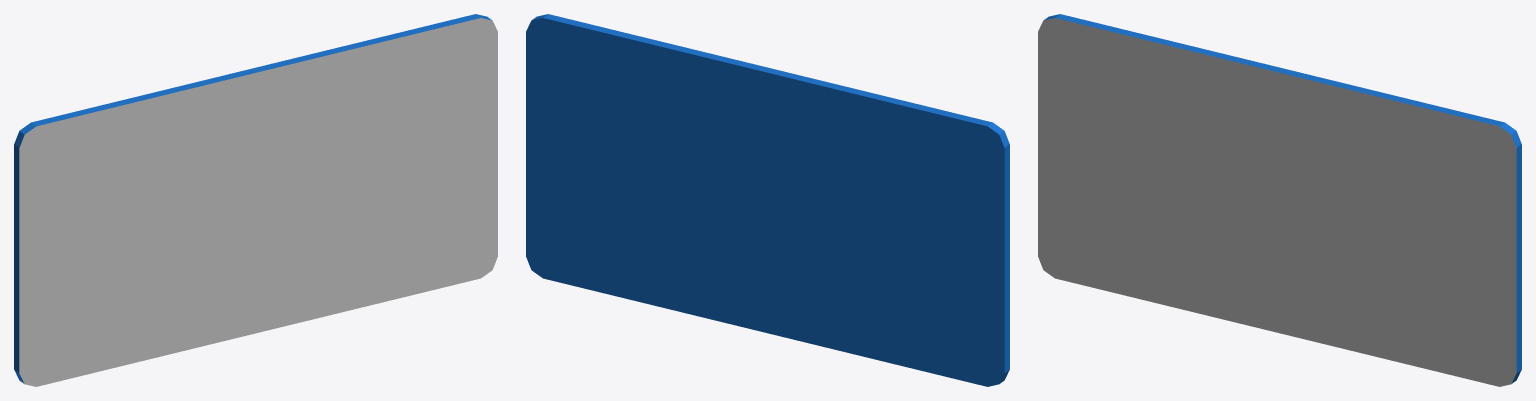
File: SM_settlement_sign_1.fbx
The picture shows the model from 3 angles, left to right: view 1: azimuth 30°, elevation 25°; view 2: azimuth 150°, elevation 25°; view 3: azimuth 330°, elevation 25°; orthographic projection.
Parts seen in each view (by area): view 1: Cube_31; view 2: Cube_31; view 3: Cube_31.
Part boxes in pixels (x1,y1,x2,y2): Cube_31: (14,14,497,386); Cube_31: (526,14,1009,386); Cube_31: (1038,14,1521,386).
Size of the model in its own units: 155 by 80.78 by 3.
